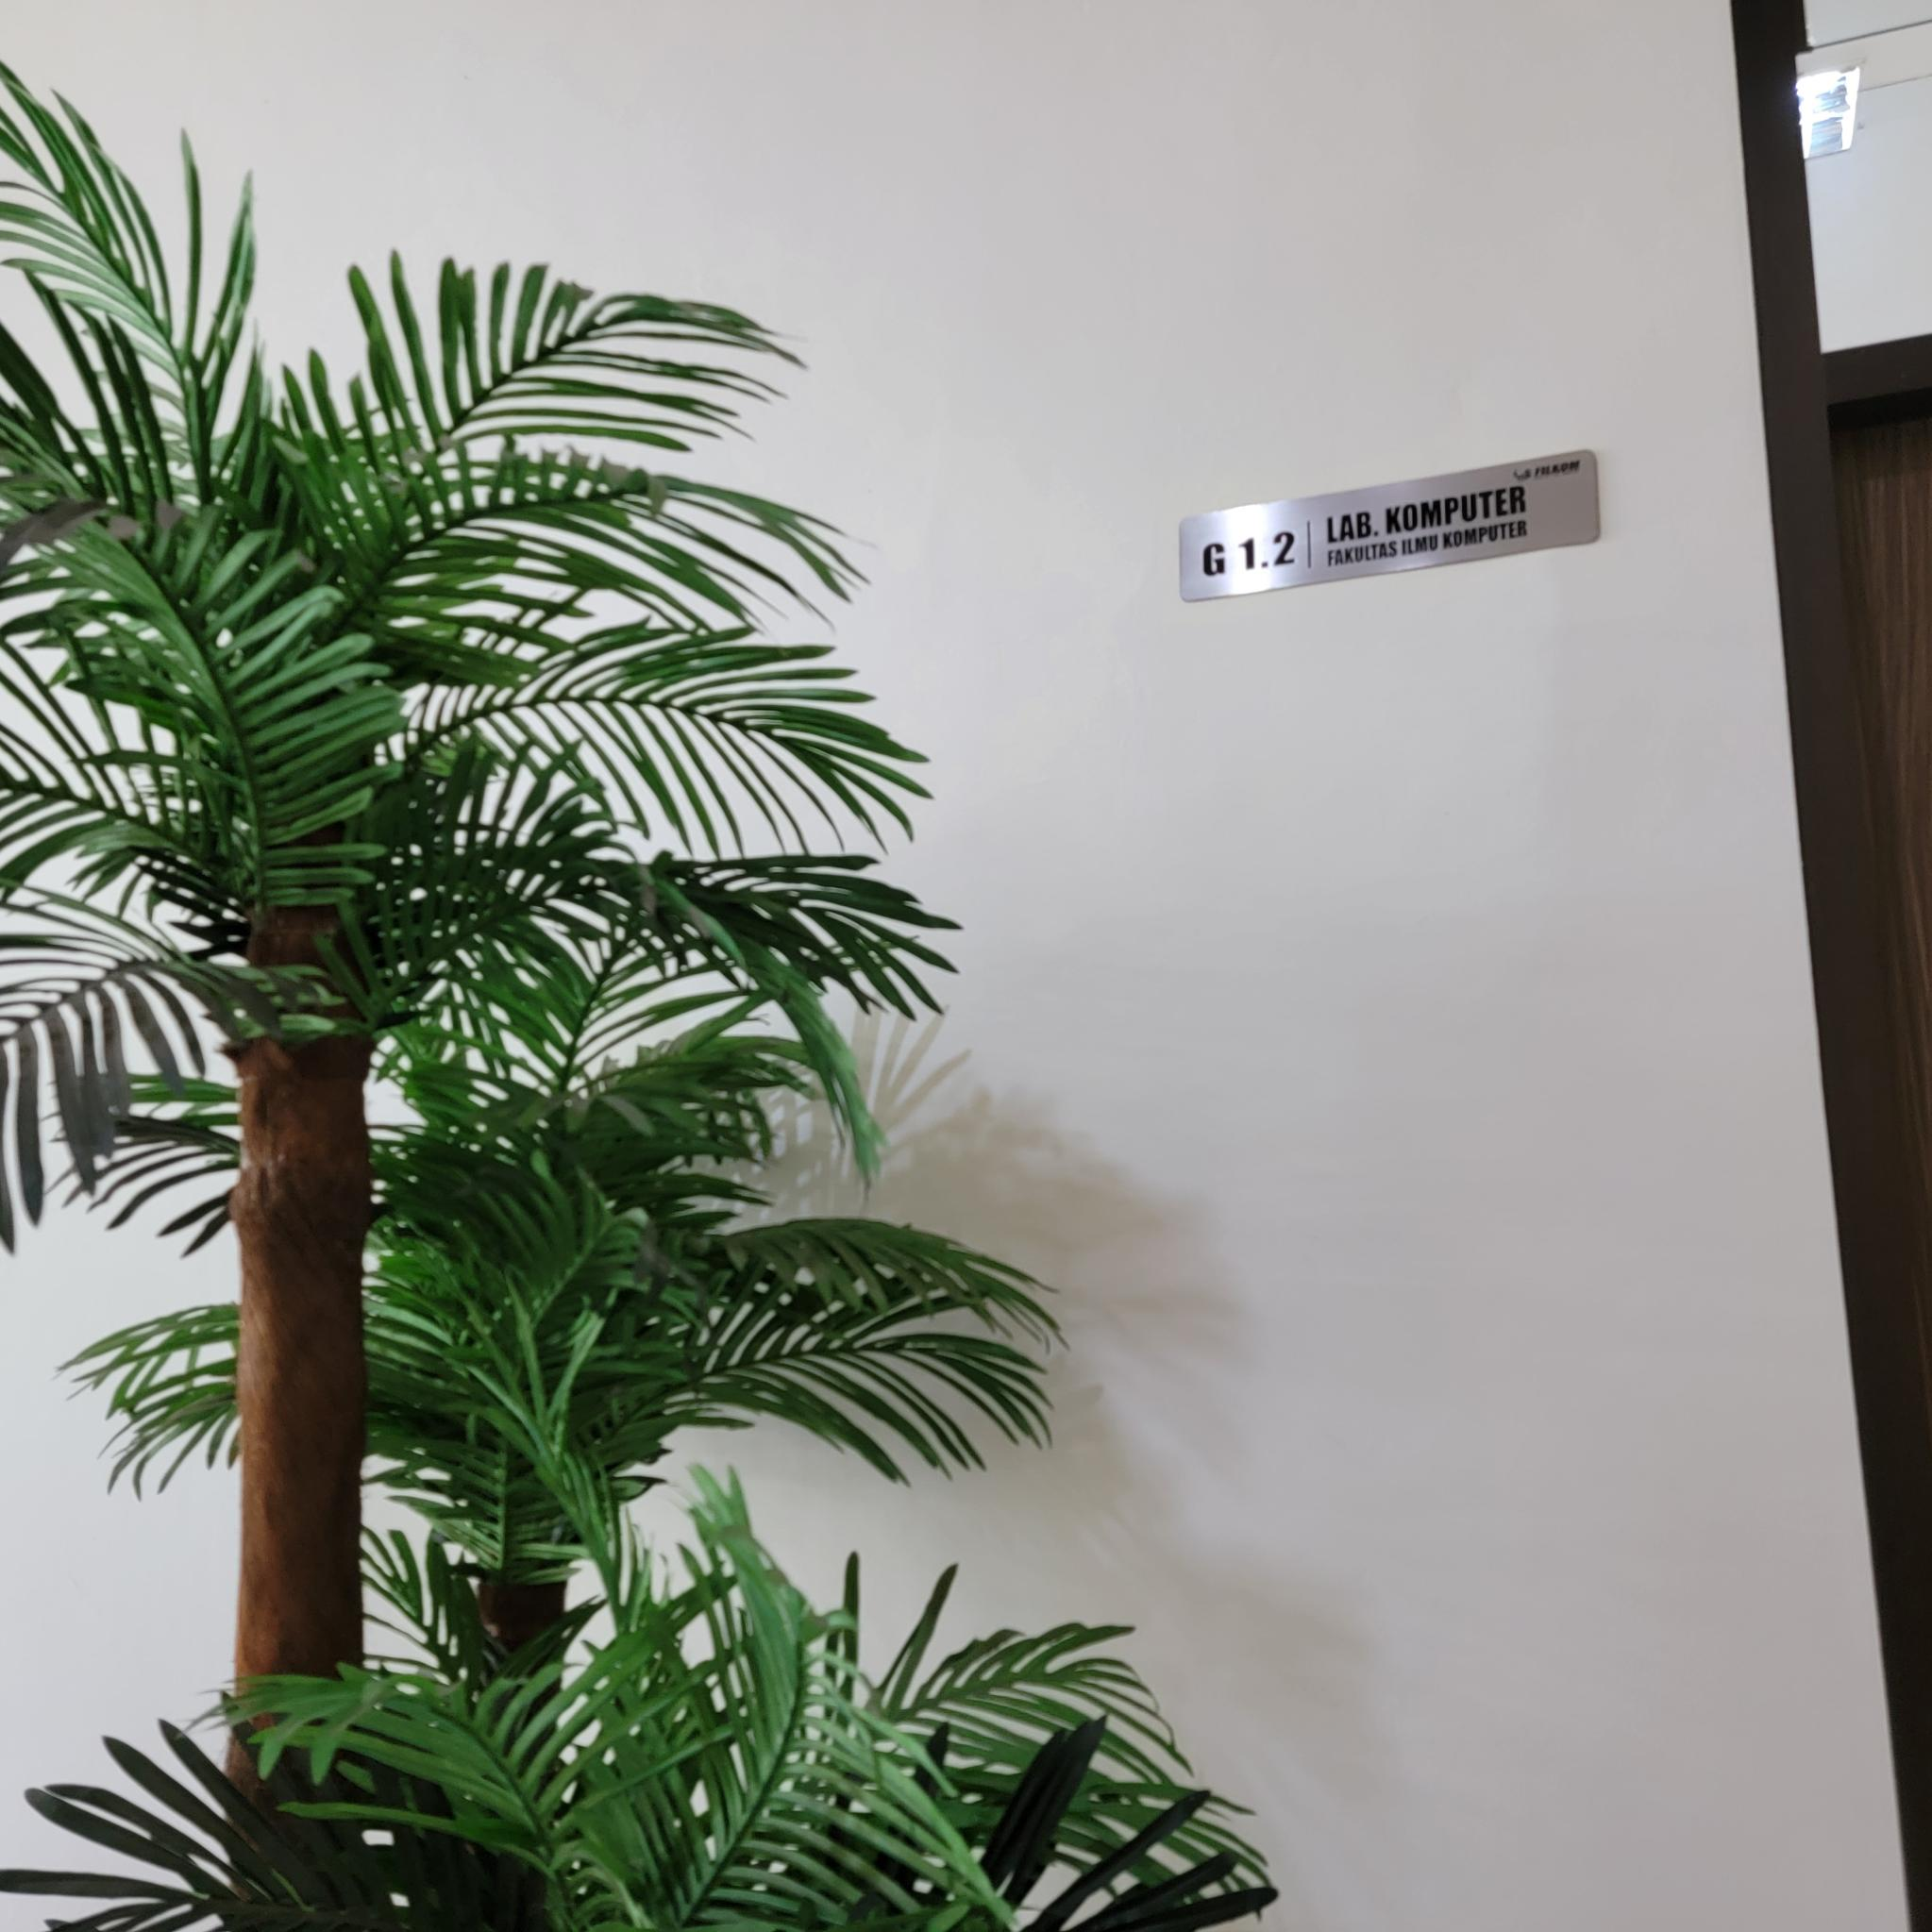plate: (1178, 448, 1601, 605)
